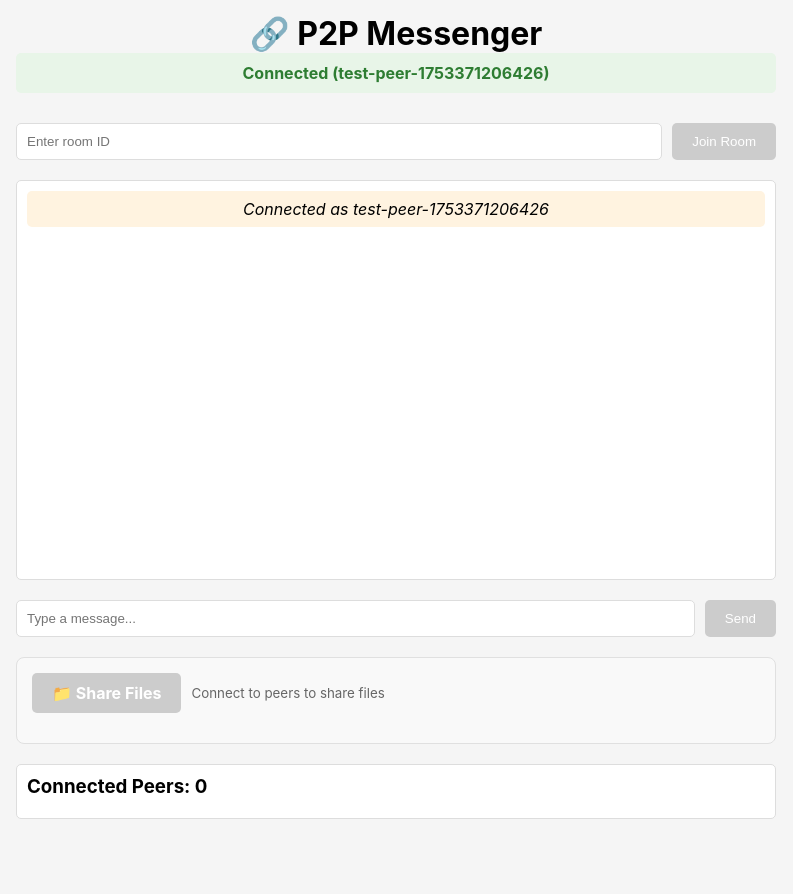
Scenario: App Component - Real Code Tests › should test real peer management
Expected: the text "Connected (test-peer-1753371206426)" is shown, [16,53,776,93]
In the field with placeholder "Enter room ID": x=339, y=142 [16,123,662,160], type "test-room"
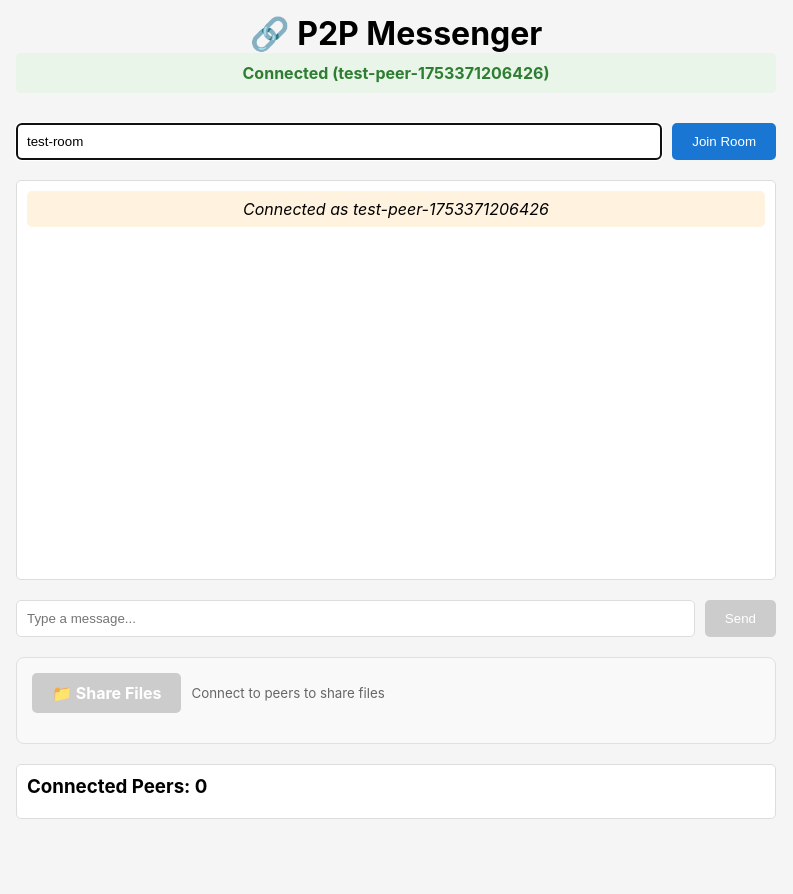
Press Enter
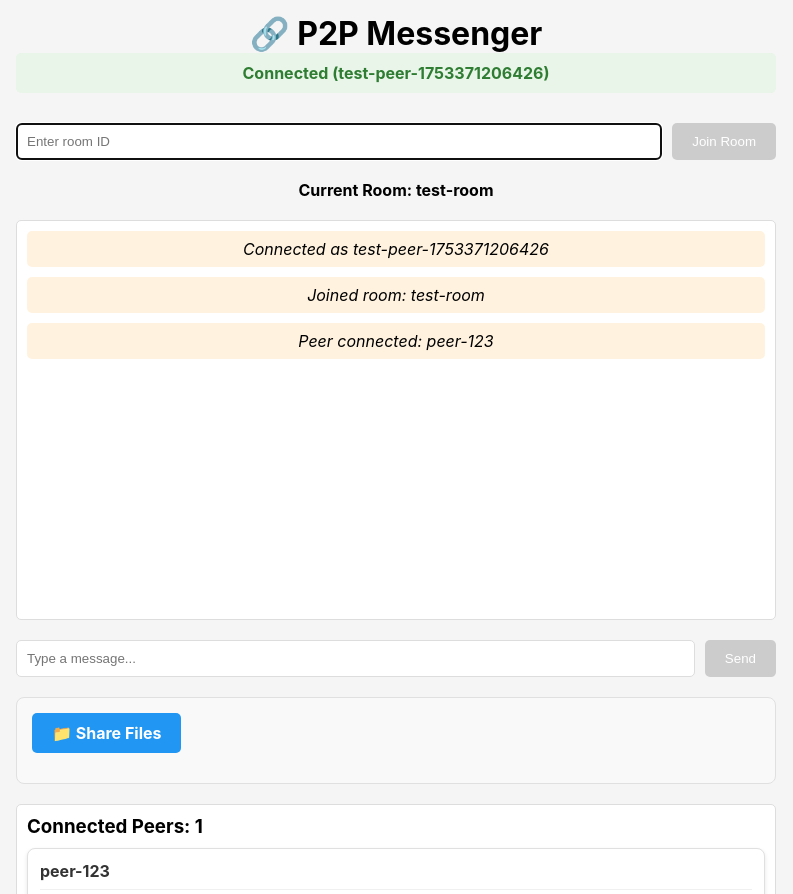
Expected: the text "Current Room: test-room" is shown, [298,180,494,200]
Expected: the text "Peer connected: peer-123" is shown, [298,331,494,351]
Expected: the heading "Connected Peers: 1" is shown, [27,815,203,838]
